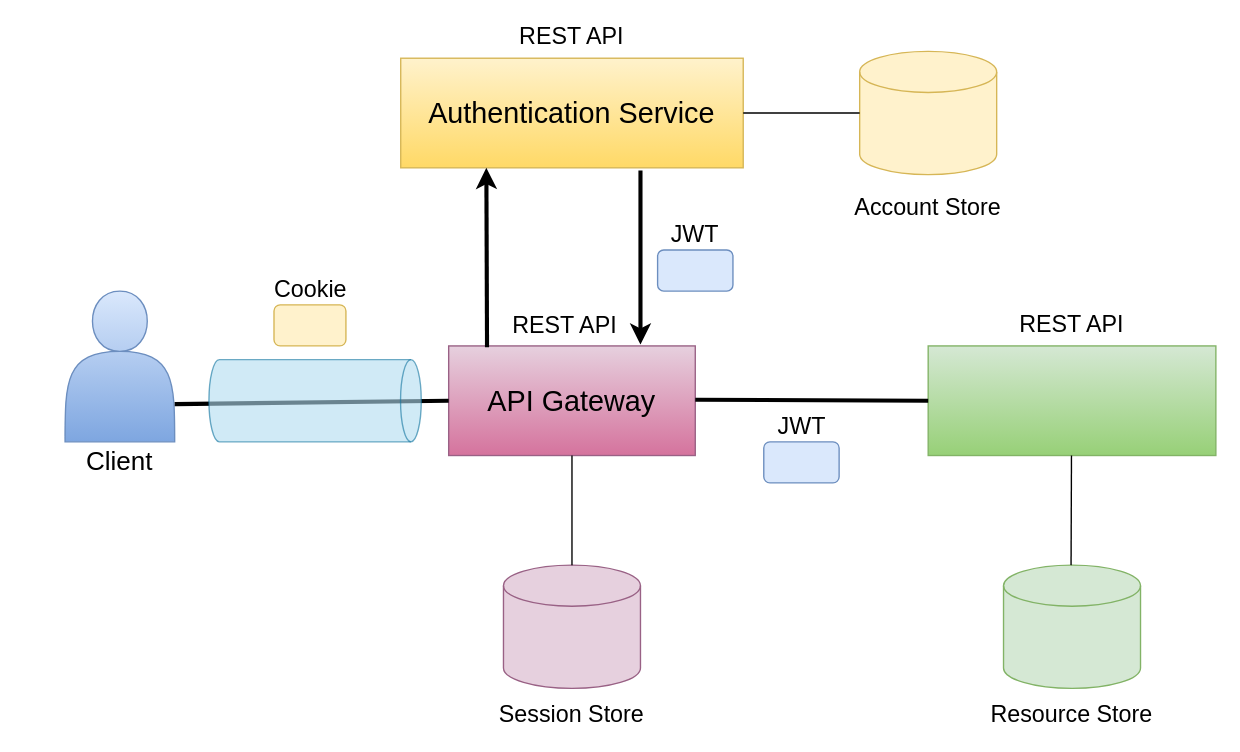
Some shapes in this 1240 by 752 pixel diagram are drawn without their labels. Each missing label, with the centre of its shape:
Resource Service: point 1071,400
Socket.IO: point 314,400
